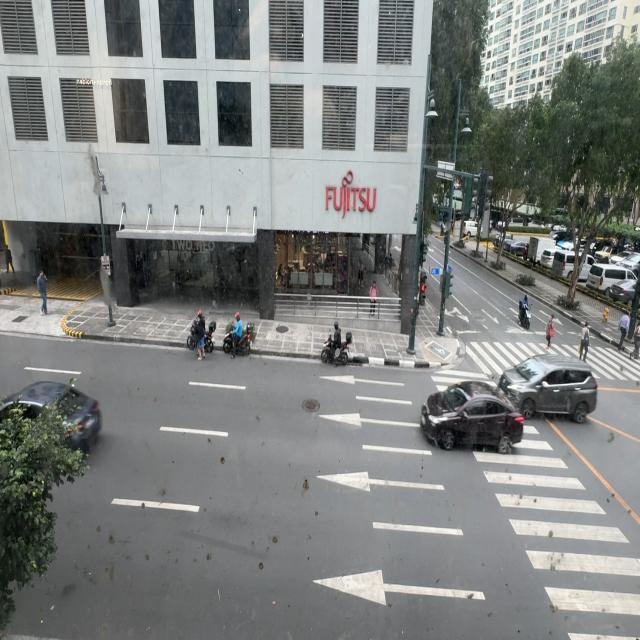crossing: (617, 309, 629, 352), (579, 321, 590, 362), (545, 314, 555, 349)
pedestrain: (37, 270, 48, 316)
